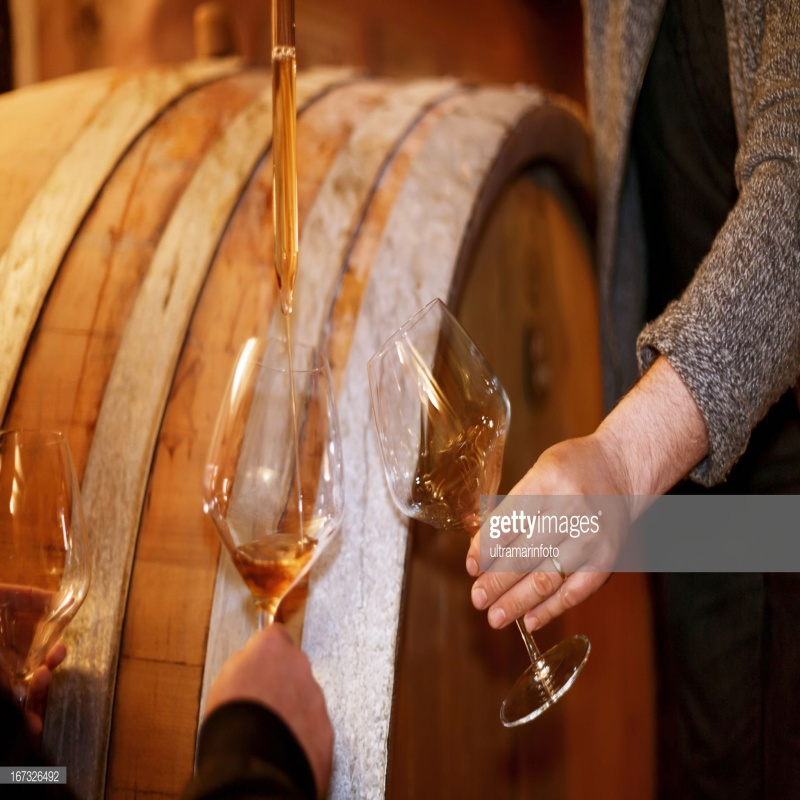whiskey: (372, 299, 581, 696), (197, 344, 341, 638)
